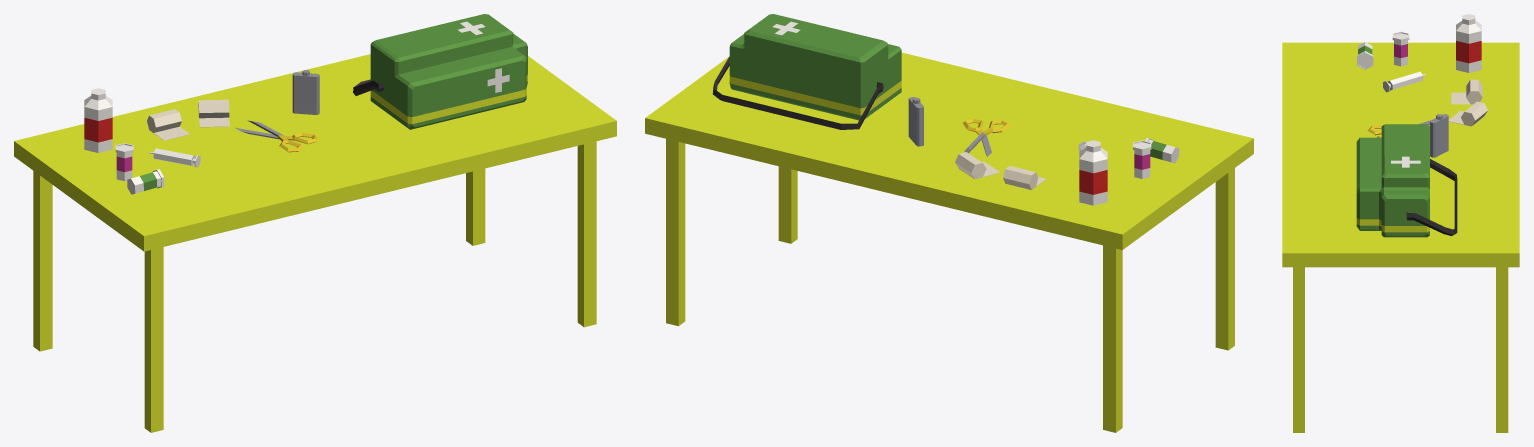
Rendered from g_o_MedicalKit.fbx.
3 renders of one model, left to right at view 1: azimuth 30°, elevation 25°; view 2: azimuth 150°, elevation 25°; view 3: azimuth 270°, elevation 25°, orthographic. The views are drawn at different scales.
Parts seen in each view (by area): view 1: med_kit2; view 2: med_kit2; view 3: med_kit2.
Part boxes in pixels (box(x1,y1,x2,y2)): med_kit2: box(14, 14, 616, 432); med_kit2: box(645, 14, 1253, 432); med_kit2: box(1282, 14, 1519, 432).
Bounding box in the file's own units: 1.81 × 0.9738 × 0.8628.
